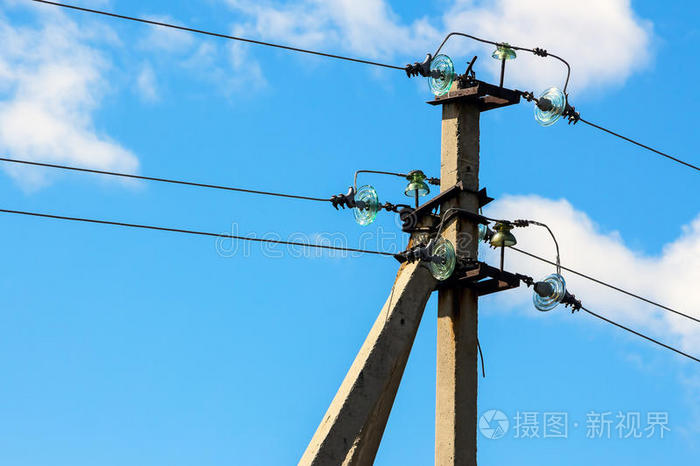insulator: (533, 83, 567, 127), (533, 272, 567, 313), (427, 54, 455, 98), (430, 242, 460, 281), (355, 186, 382, 225)
